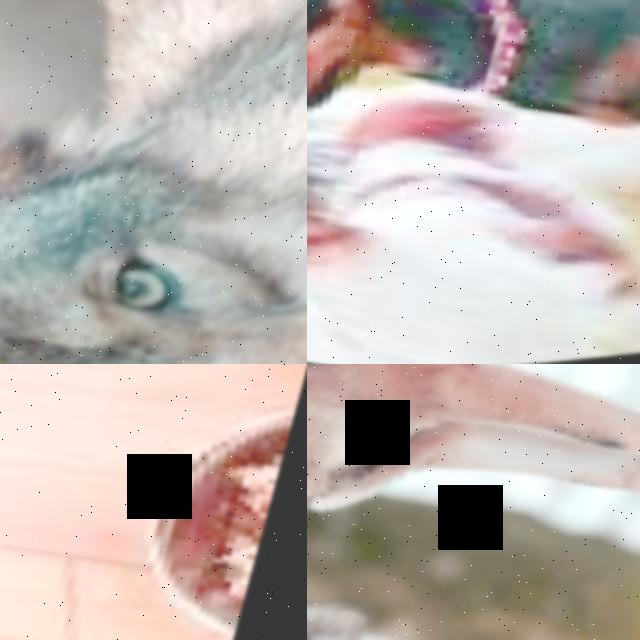dog: (307, 0, 640, 364), (307, 0, 640, 242), (0, 364, 307, 623)
wolf: (0, 0, 307, 364), (307, 364, 640, 640), (307, 520, 640, 640)
